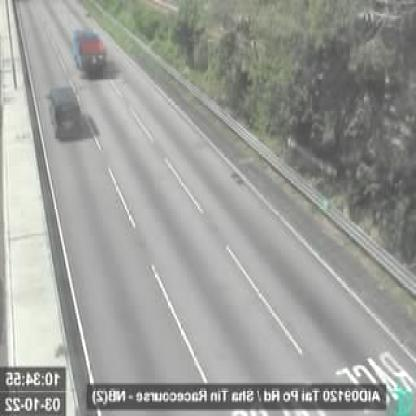Car: (49, 86, 82, 134)
Truck: (71, 26, 108, 69)
